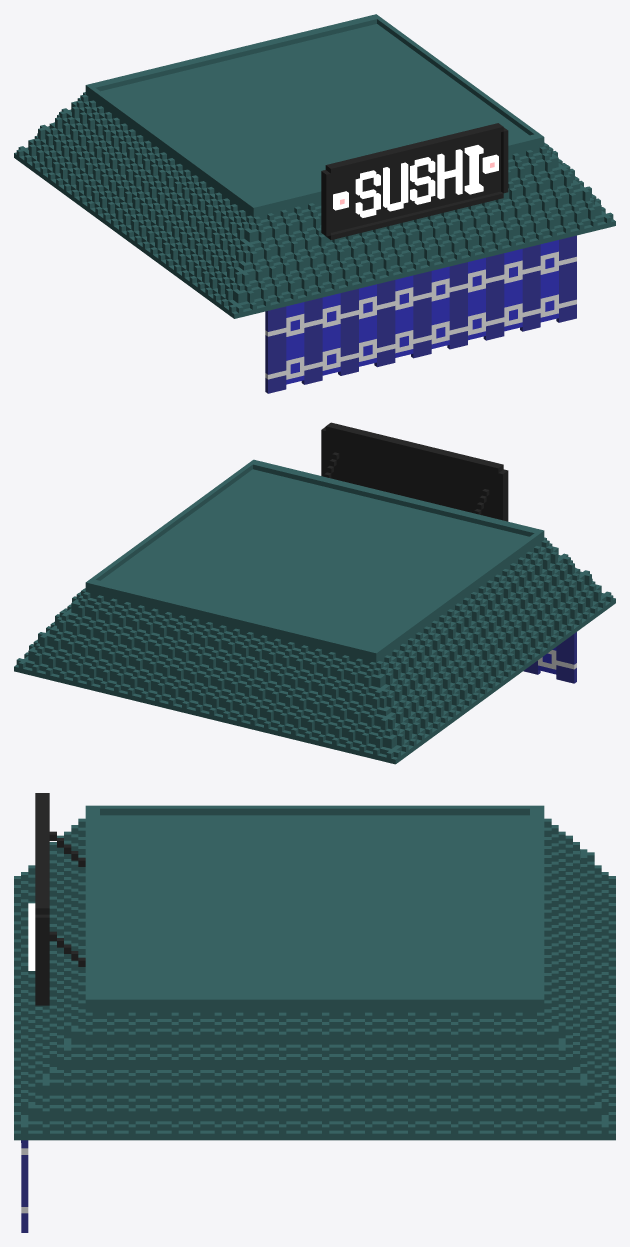
File: sushiBar.glb
The picture shows the model from 3 angles, top to bottom: view 1: azimuth 30°, elevation 25°; view 2: azimuth 150°, elevation 25°; view 3: azimuth 270°, elevation 25°; orthographic projection. The views are drawn at different scales.
Parts seen in each view (by area): view 1: ObjObject; view 2: ObjObject; view 3: ObjObject.
Boxes of the visible parts, x1,y1,x2,y2 form: ObjObject: (14, 14, 615, 393); ObjObject: (14, 422, 615, 764); ObjObject: (14, 793, 615, 1232).
Bounding box in the file's own units: 8.4 × 4.3 × 8.4.
Materials: 3 (1 with a texture image).
